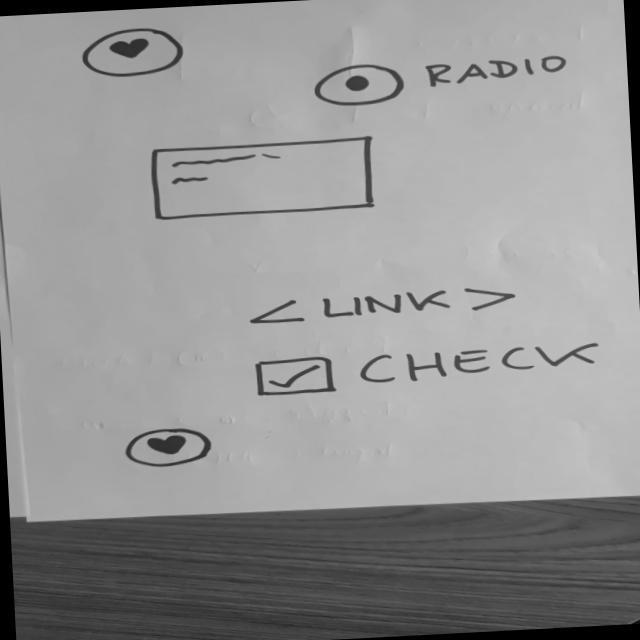checkbox: (249, 335, 616, 403)
icon-button: (79, 24, 194, 84), (122, 425, 217, 472)
link: (238, 282, 528, 333)
radio: (309, 62, 410, 110)
textarea: (146, 136, 382, 226)
